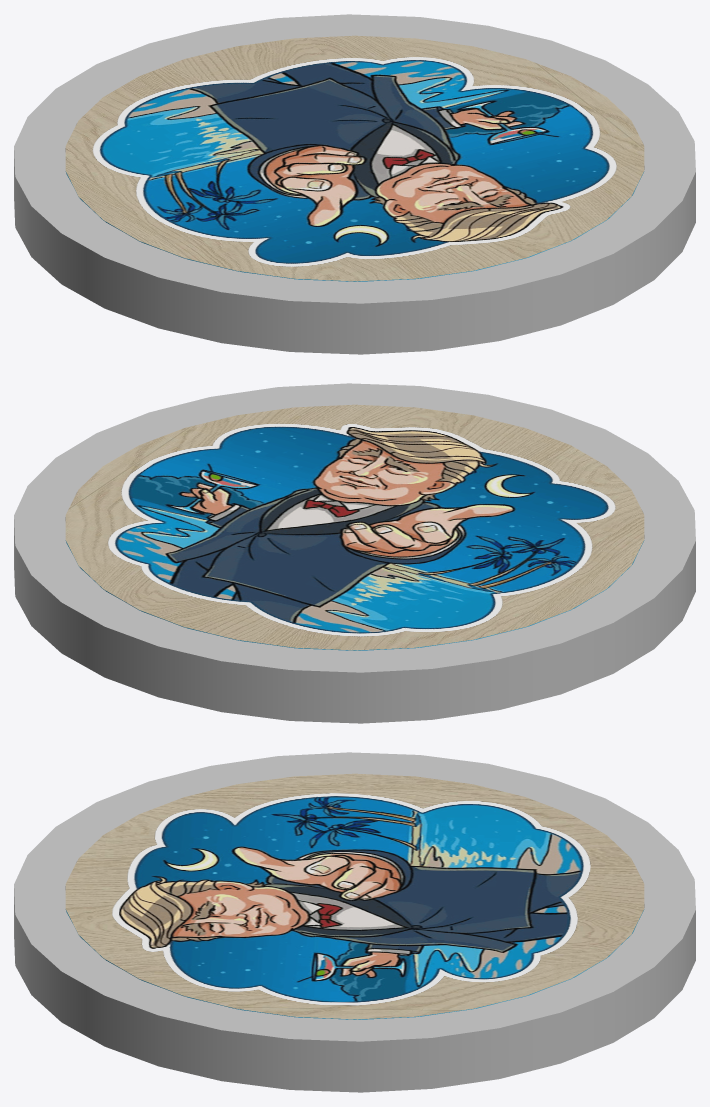
File: Puzzle_27.FBX
3 renders of one model, top to bottom at view 1: azimuth 30°, elevation 25°; view 2: azimuth 150°, elevation 25°; view 3: azimuth 270°, elevation 25°, orthographic.
Parts seen in each view (by area): view 1: Cylinder002, 082, 079, 083, 080, 077, 081, 078; view 2: Cylinder002, 082, 079, 083, 080, 077, 081, 078; view 3: Cylinder002, 082, 079, 083, 080, 077, 081, 078.
Boxes of the visible parts, <box> form: Cylinder002: <box>14,14,695,354</box>; 082: <box>397,110,644,270</box>; 079: <box>65,76,287,236</box>; 083: <box>103,197,488,281</box>; 080: <box>139,35,472,142</box>; 077: <box>355,46,643,150</box>; 081: <box>241,126,439,206</box>; 078: <box>298,134,411,182</box>; Cylinder002: <box>14,383,695,723</box>; 082: <box>184,404,525,519</box>; 079: <box>294,532,606,650</box>; 083: <box>422,428,644,588</box>; 080: <box>65,530,342,648</box>; 077: <box>65,428,300,575</box>; 081: <box>331,480,468,575</box>; 078: <box>298,503,411,551</box>; Cylinder002: <box>14,752,695,1092</box>; 082: <box>65,883,389,1008</box>; 079: <box>262,773,630,881</box>; 083: <box>66,773,354,906</box>; 080: <box>389,858,644,996</box>; 077: <box>237,916,552,1019</box>; 081: <box>241,848,462,911</box>; 078: <box>298,872,411,920</box>.
Size of the model in its own units: 4.04 by 0.3346 by 4.03.
